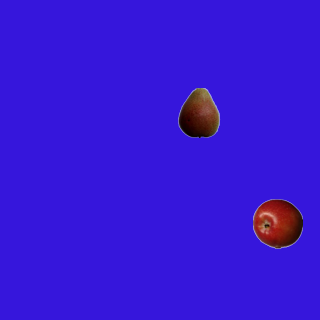Apple Braeburn: (252, 198, 302, 248)
Pear Forelle: (173, 87, 223, 137)
